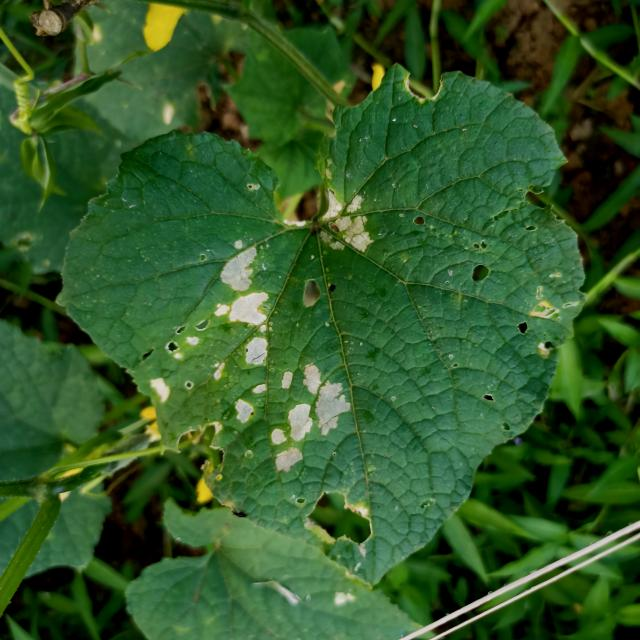disease_cucumber: (145, 237, 279, 422), (267, 358, 357, 486), (316, 189, 379, 260)
